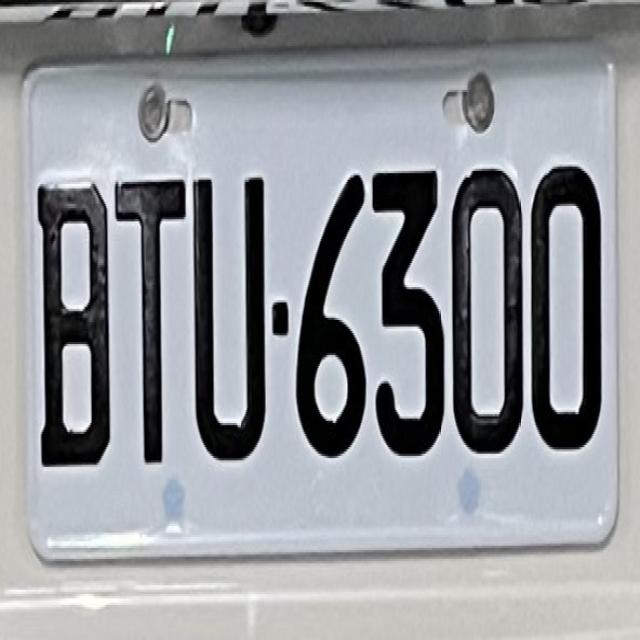license-plate: (20, 40, 619, 558)
